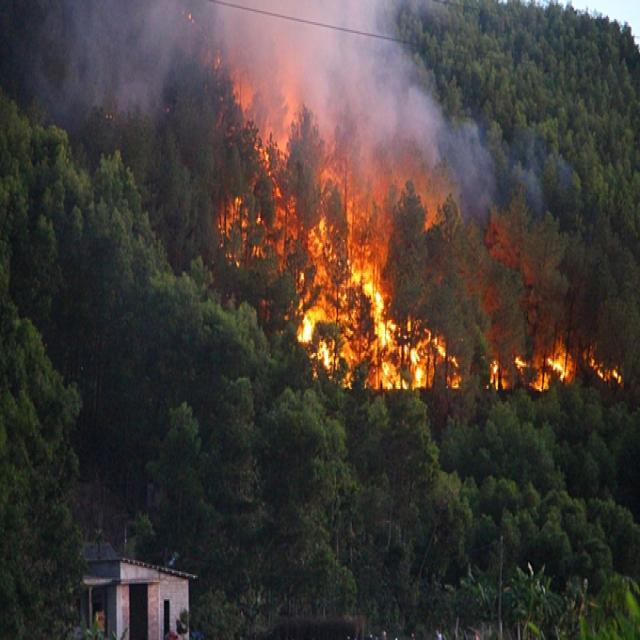Fire: (294, 220, 409, 390), (409, 334, 454, 388), (537, 358, 576, 394)
Smoke: (68, 0, 434, 123), (325, 120, 497, 214)
